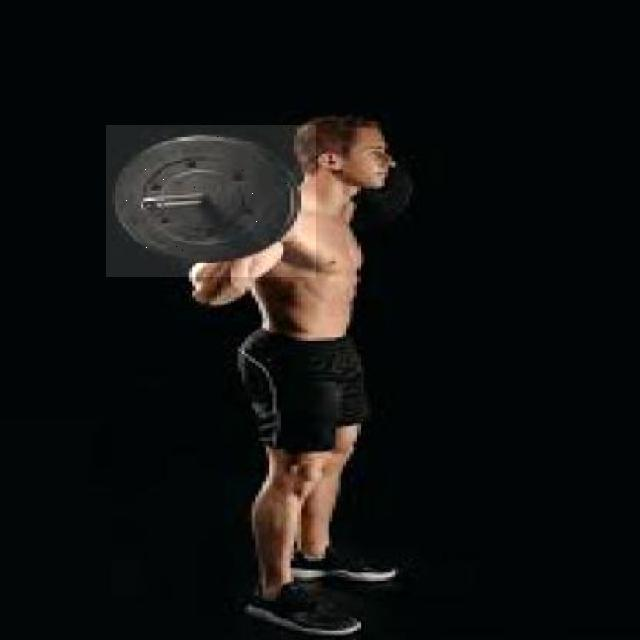barbell: (107, 126, 317, 278)
